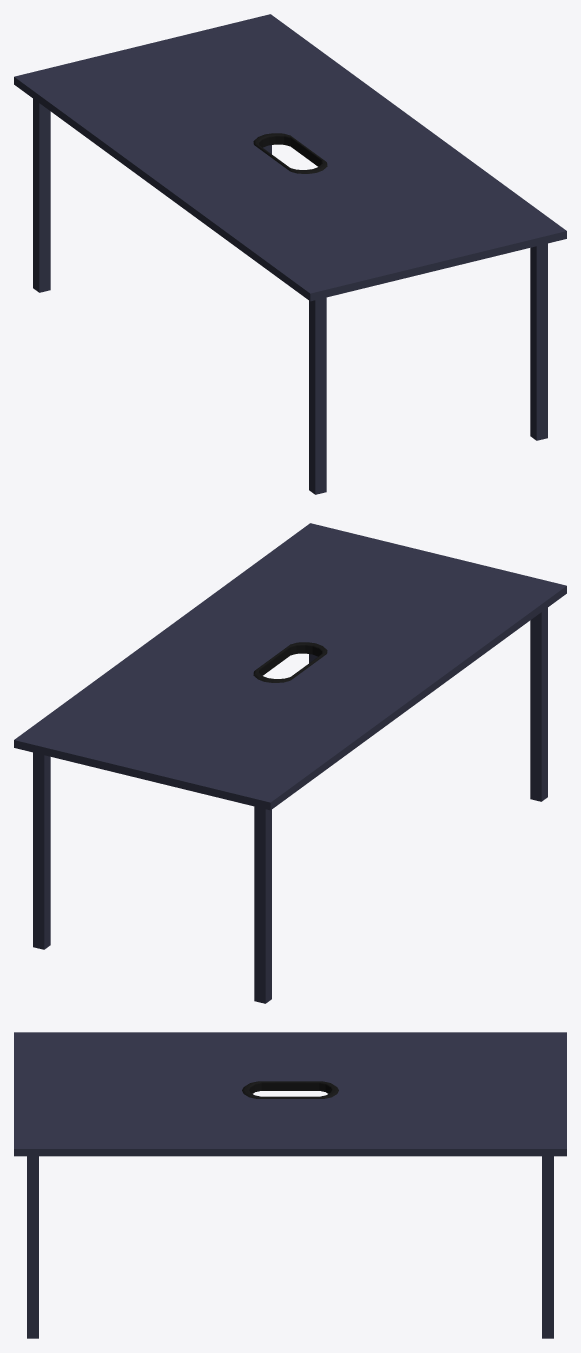
Rendered from plastik_masa.fbx.
The picture shows the model from 3 angles, top to bottom: view 1: azimuth 30°, elevation 25°; view 2: azimuth 150°, elevation 25°; view 3: azimuth 270°, elevation 25°; orthographic projection. The views are drawn at different scales.
Visible parts, largest first — view 1: Plane; view 2: Plane; view 3: Plane.
Boxes of the visible parts, x1,y1,x2,y2 form: Plane: [14, 14, 566, 494]; Plane: [14, 523, 566, 1003]; Plane: [14, 1032, 566, 1338].
Size of the model in its own units: 2 by 1.57 by 4.
